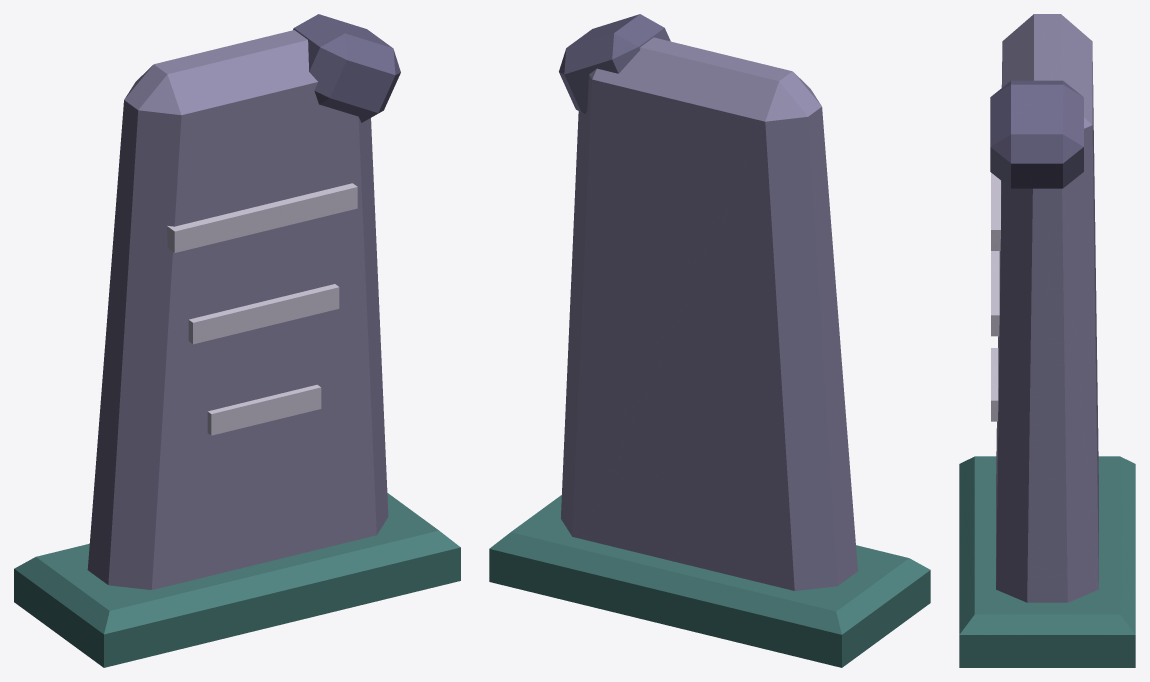
File: stone_tablet.glb
3 views of the same model, side by side, from view 1: azimuth 30°, elevation 25°; view 2: azimuth 150°, elevation 25°; view 3: azimuth 270°, elevation 25° (orthographic).
Visible parts, largest first — view 1: stone_tablet, glow_carve; view 2: stone_tablet; view 3: stone_tablet, glow_carve.
Part boxes in pixels (<box>): stone_tablet: <box>14,14,460,667</box>; glow_carve: <box>167,183,357,435</box>; stone_tablet: <box>489,14,930,667</box>; stone_tablet: <box>959,14,1135,667</box>; glow_carve: <box>991,172,1000,421</box>.
Bounding box in the file's own units: 0.78 × 1.15 × 0.34.
Materials: 1 (1 with a texture image).
